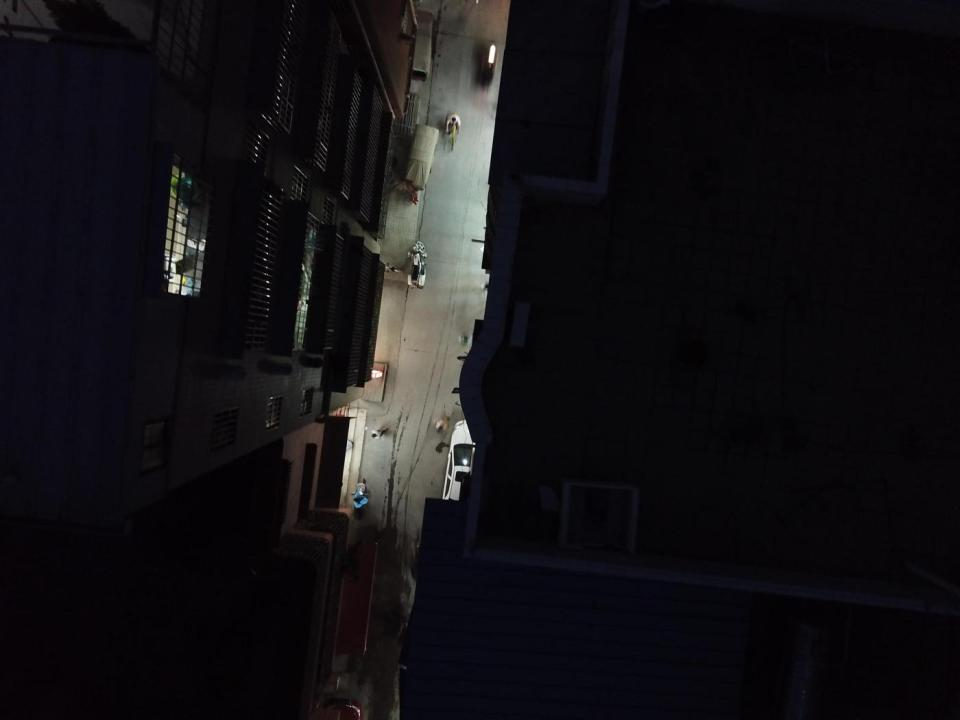car: (442, 418, 496, 523)
